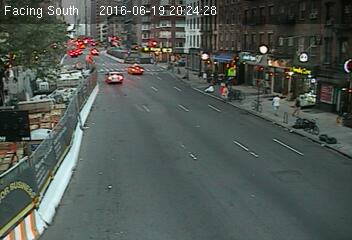neg: (247, 100, 263, 122), (228, 93, 240, 109), (182, 69, 194, 85)
pos: (268, 94, 289, 122), (291, 95, 309, 119)
